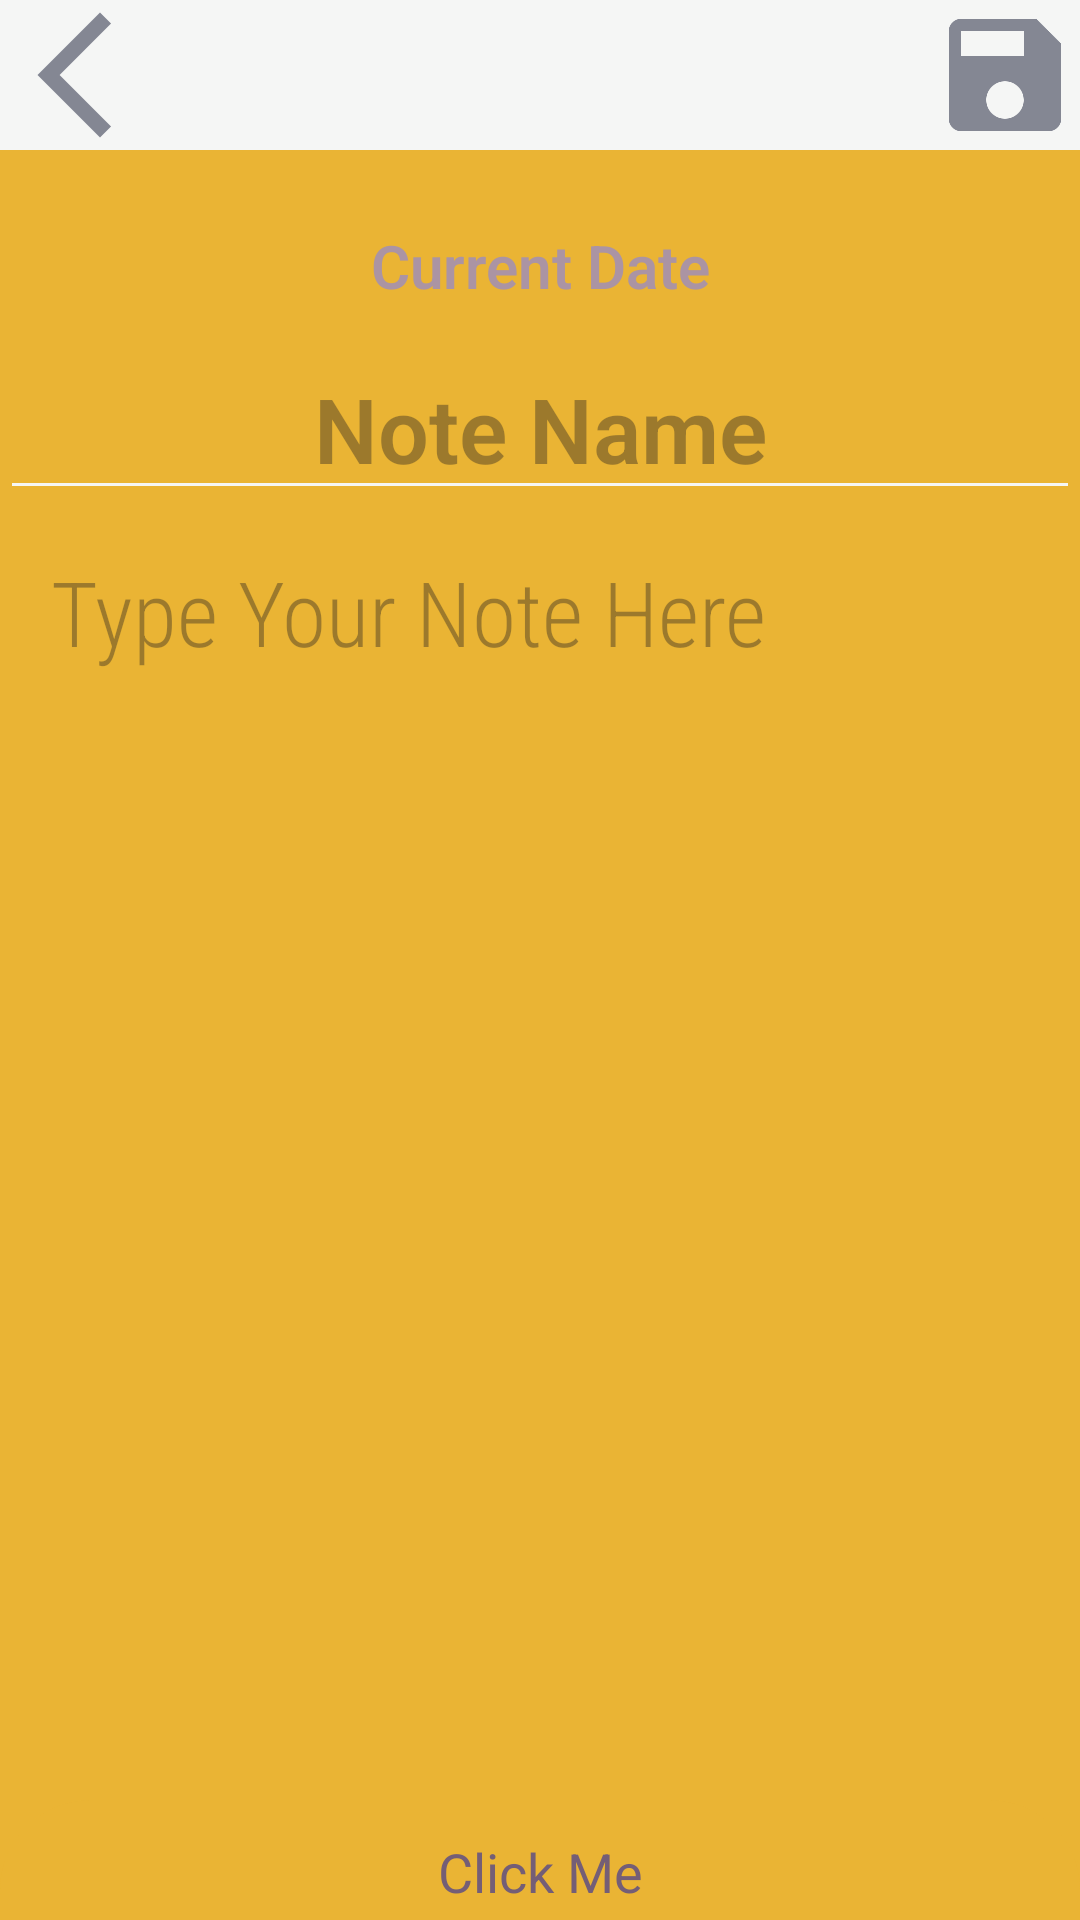

Where icons sit on this 1080×1920 app screen, as BBox(x1, y1, x2, y2):
arrow back: BBox(38, 13, 111, 137)
save: BBox(949, 19, 1061, 131)
